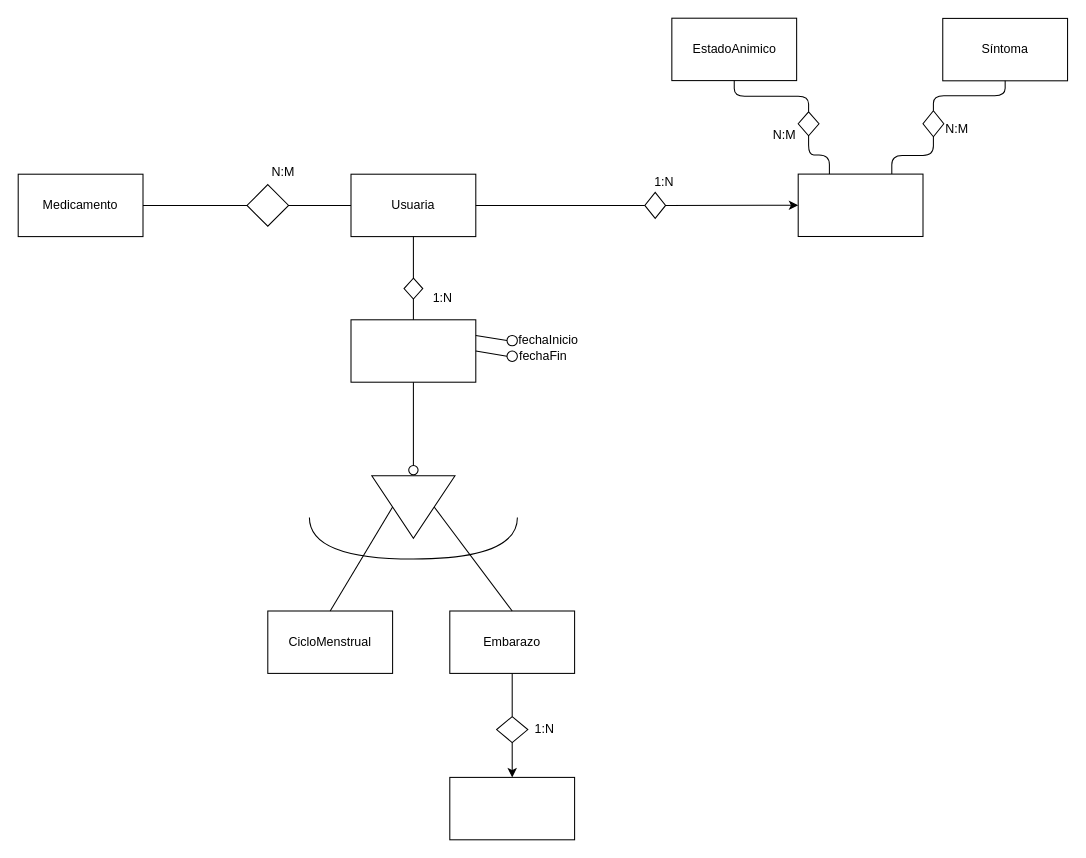
The diagram is 1086 pixels wide and 858 high, and some of its shapes have lost their labels. Here are the shapes that lost their labels. From the top down, the centre of each, then its label:
the point at 860,204: RevisionPersonal
the point at 413,350: Ciclo
the point at 512,808: RevisionMedica
